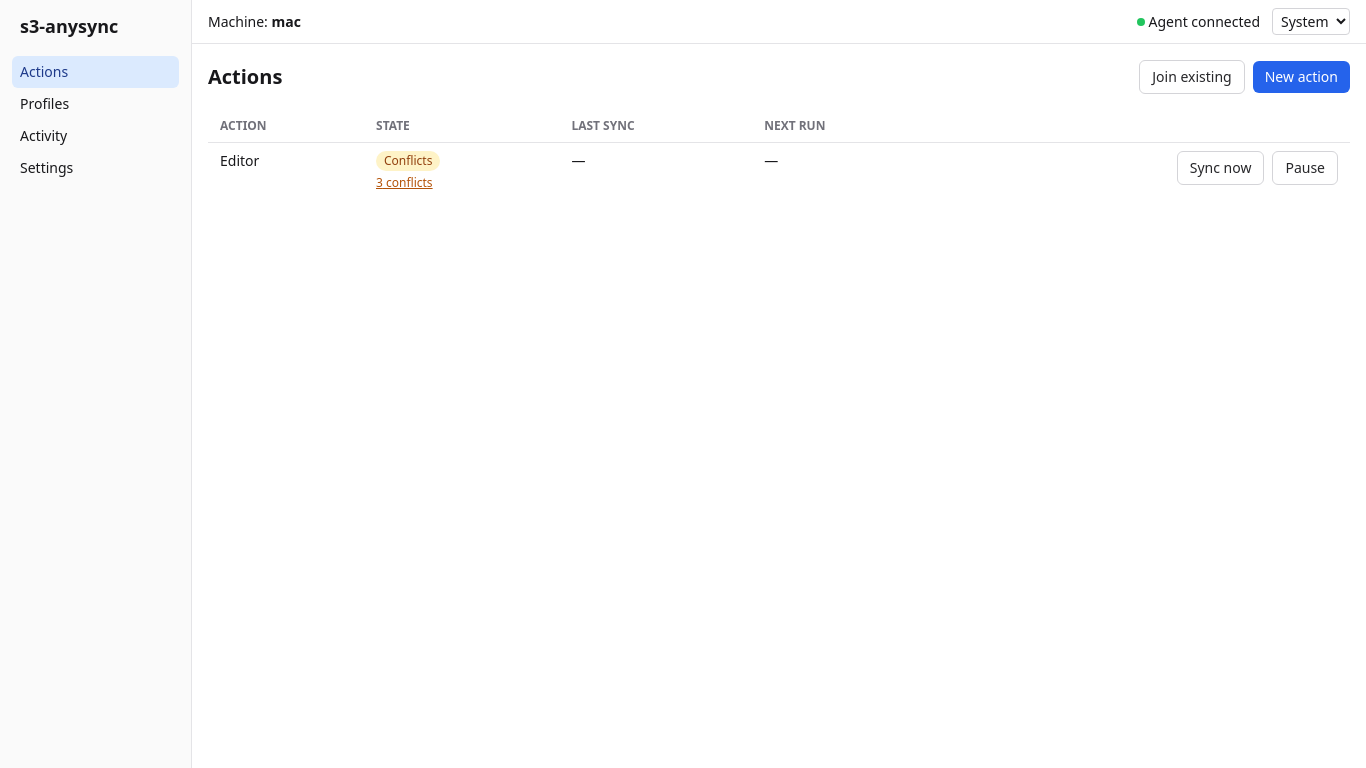
Test case: a conflict banner leads to the conflicts screen
Click the button "Editor" at (240, 161), box [220,151,259,171]
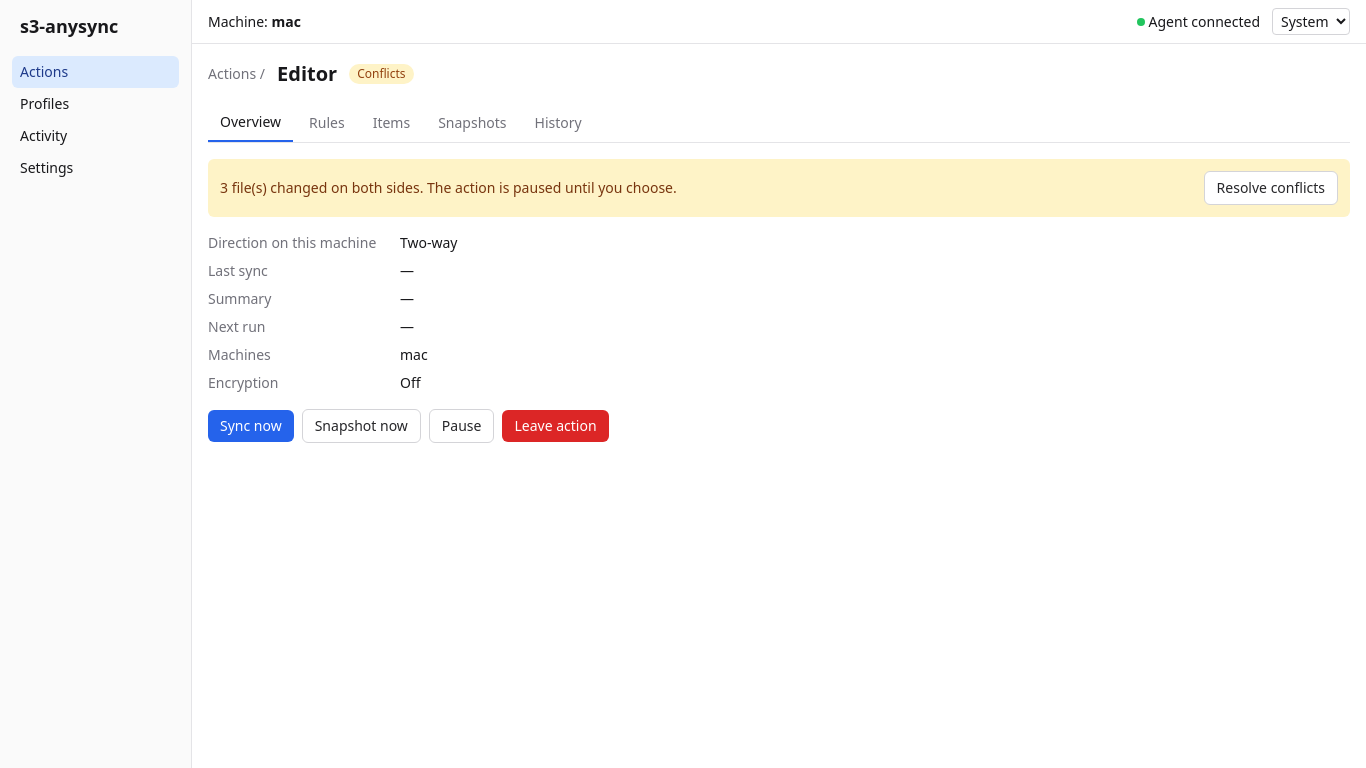
expect the button "Leave action" is shown: met, box [502,410,608,442]
expect the text "3 file(s) changed on both sides" is shown: met, box [220,178,677,198]
expect the button "Resolve conflicts" is shown: met, box [1204,171,1338,205]
